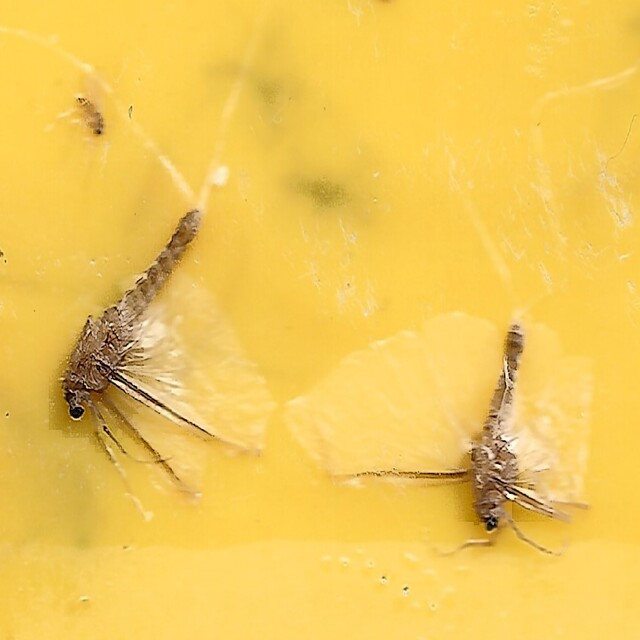Ephemeroptera: (62, 204, 266, 510), (329, 312, 578, 552)
Nematocera: (71, 88, 109, 145)
